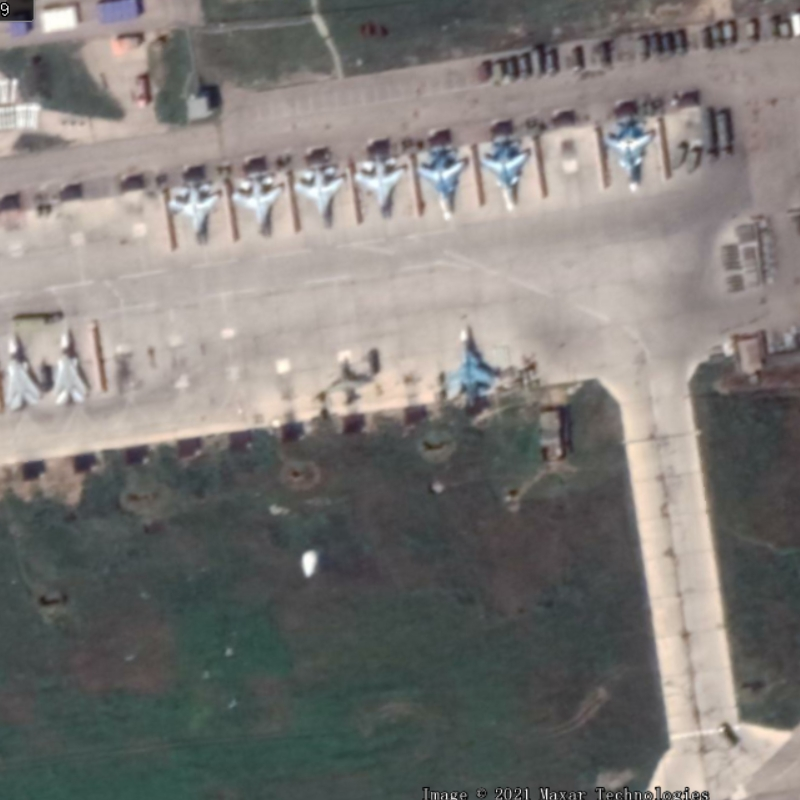A1: (352, 151, 407, 224), (166, 178, 221, 249), (292, 161, 347, 231), (229, 172, 284, 239)
A19: (444, 325, 503, 410), (601, 115, 659, 200), (476, 131, 530, 214), (413, 142, 466, 222)
A20: (50, 324, 90, 408), (3, 330, 43, 412)
